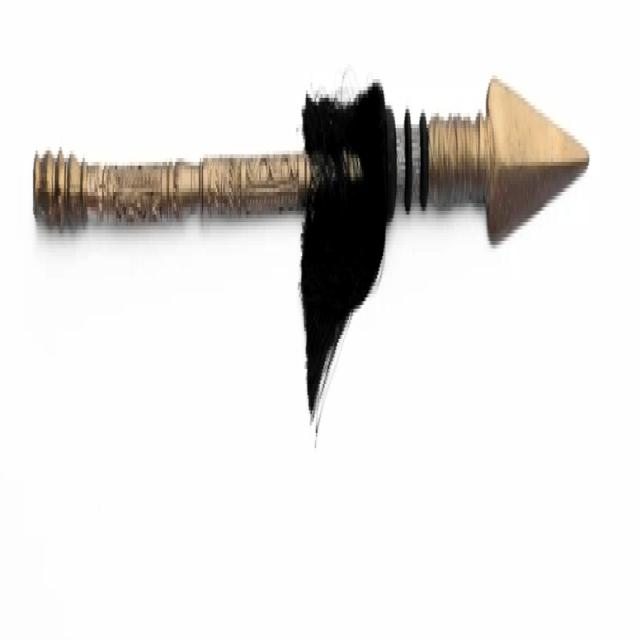spear: (24, 46, 597, 434)
